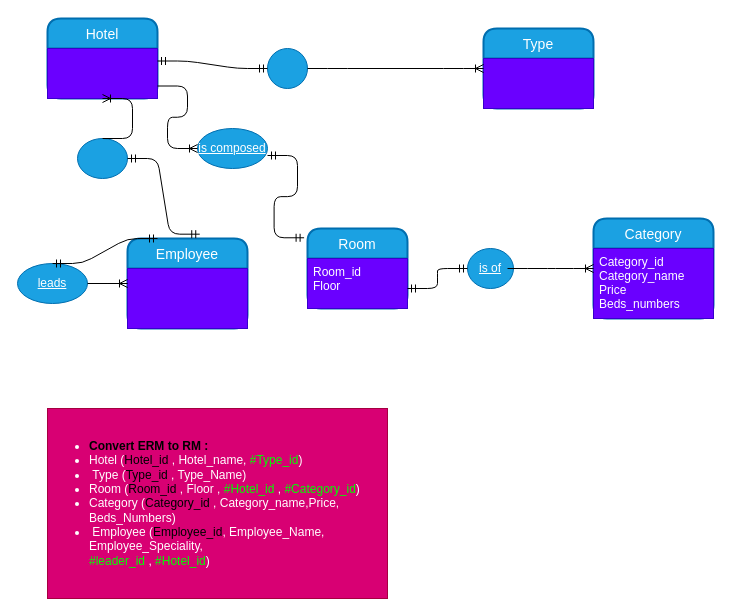
Image size: 732x616. Some labels were removed from this diagram. Each missing label, with the centre of its shape:
"Employee_id Employee_name Employee_speciality" goes at point (187, 298).
"Hotel_id Hotel_name" goes at point (102, 73).
"is" goes at point (287, 68).
"Type_id Type_name" goes at point (538, 83).
"works" goes at point (102, 158).
